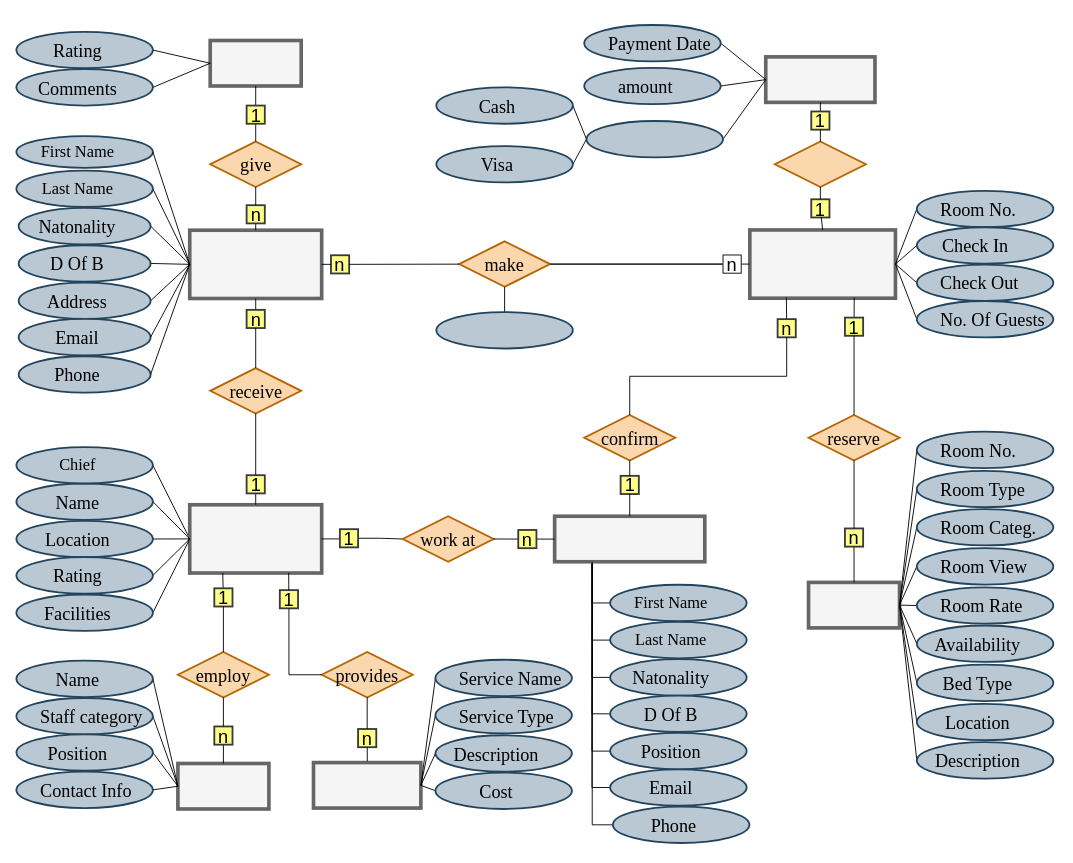
The diagram is 1073 pixels wide and 863 high, and some of its shapes have lost their labels. Each missing label, with the centre of its shape:
approve: point 820,163
Feedback: point 255,62
Guest: point 255,264
Hotel: point 255,538
Payment: point 819,79
Payment Method: point 654,139
Receptionist: point 629,538
Reservation: point 822,264
Reservation Date: point 504,330
Room: point 853,604
Services: point 366,784
Staff: point 223,785
